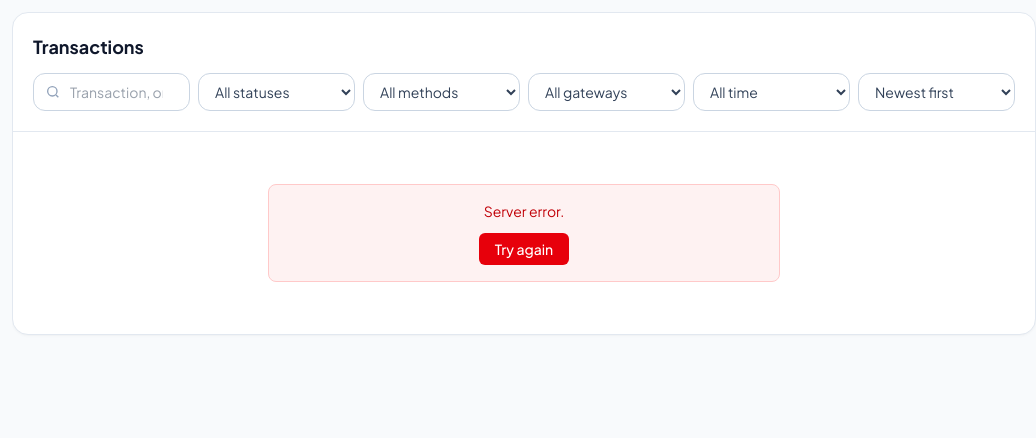
AdminPaymentsPage › error with retry
This screenshot has width=1036, height=438.
Check: the text "Server error." is shown, box [484, 202, 564, 220]
Click the button "Try again". click: (524, 249)
box: [479, 233, 569, 265]
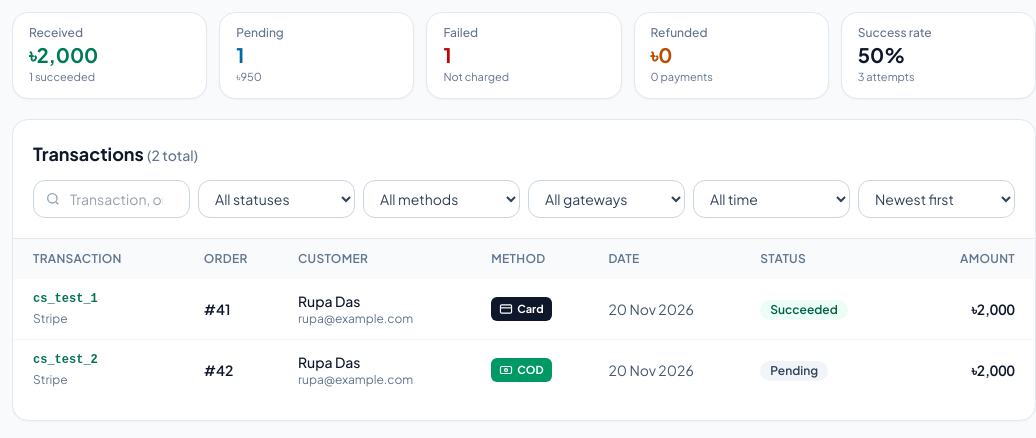
Check: the text "৳2,000" is shown, box [29, 42, 98, 67]
